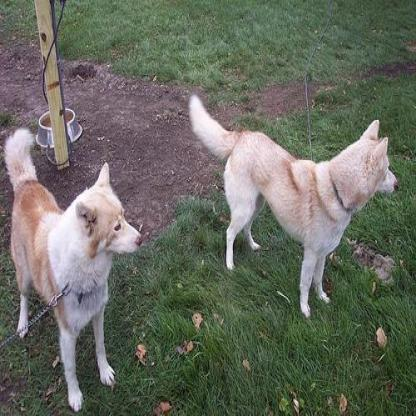Siberian_husky: (189, 90, 398, 316), (4, 126, 141, 410)
